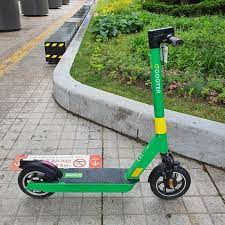kick_board: (17, 27, 190, 198)
kick_body: (60, 168, 135, 192)
kick_handler: (146, 27, 184, 49)
kick_neck: (150, 53, 168, 153)
kick_wheel: (18, 157, 56, 198), (149, 165, 192, 197)
